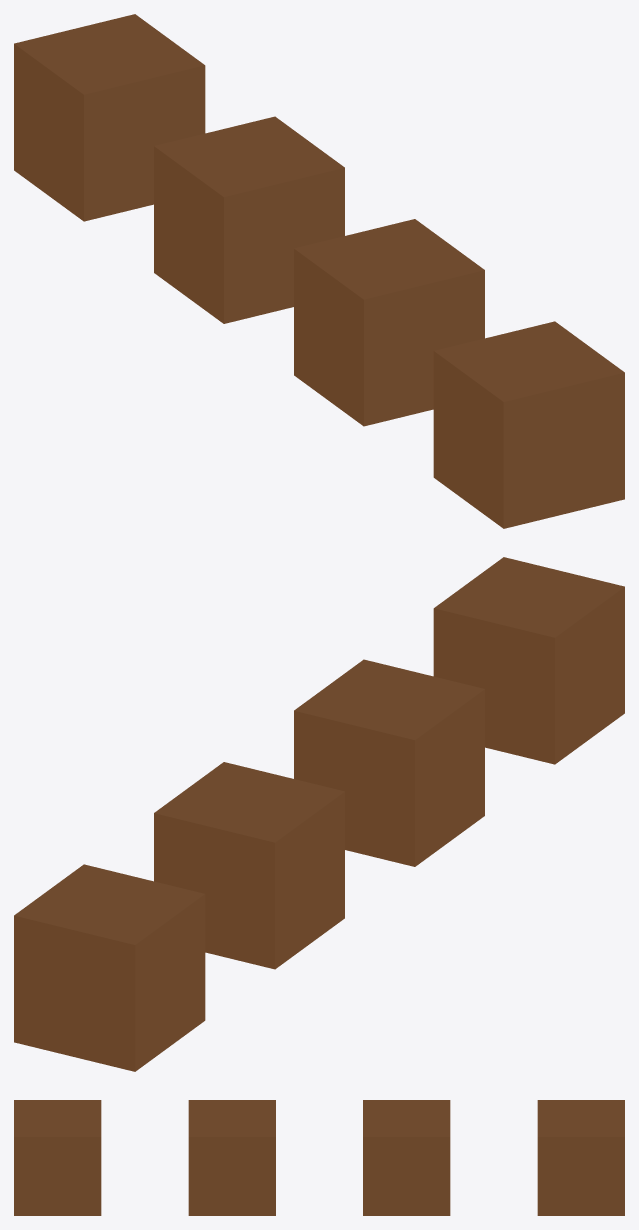
The model's file is emissive-strength.gltf.
3 renders of one model, top to bottom at view 1: azimuth 30°, elevation 25°; view 2: azimuth 150°, elevation 25°; view 3: azimuth 270°, elevation 25°, orthographic. The views are drawn at different scales.
Size of the model in its own units: 20 by 20 by 140.
